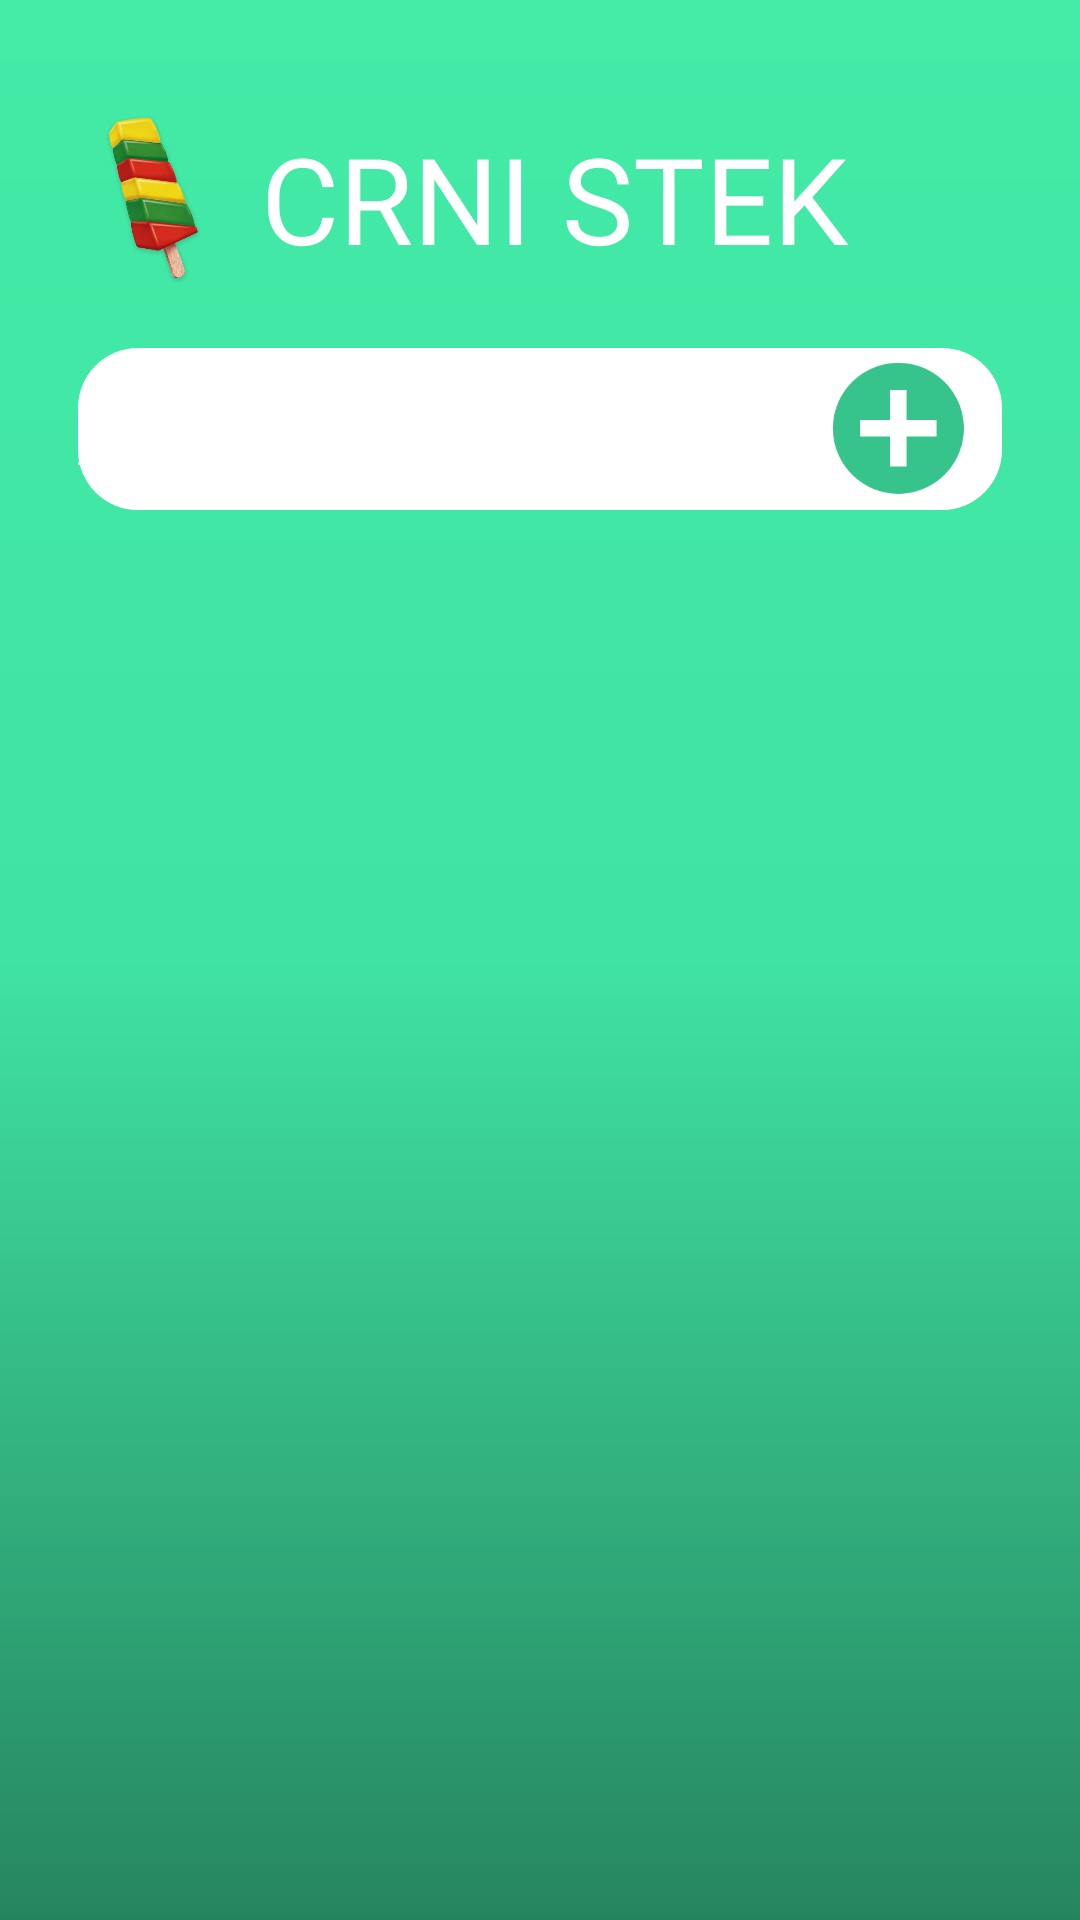

Screen size 1080x1920. Icon name, then its center in pixels as [x,y]:
Add: [897,429]
kontiki: [153,199]
